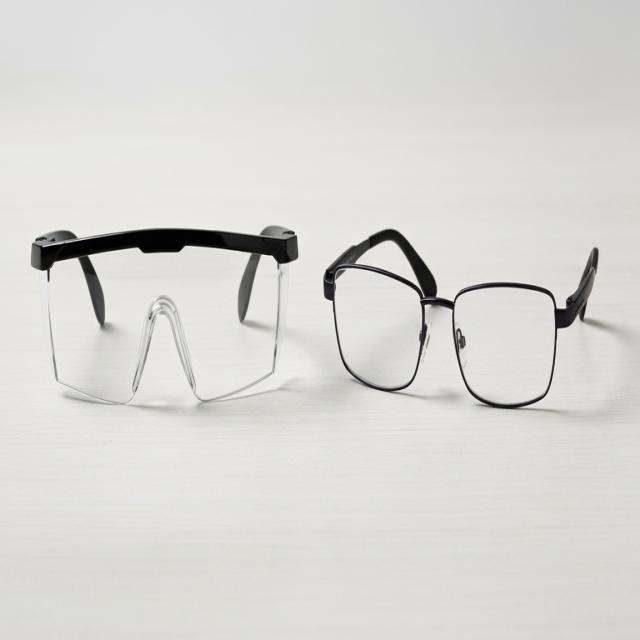oculos-epi: (31, 225, 297, 403)
sem_oculos: (320, 198, 620, 434), (325, 229, 597, 408)
